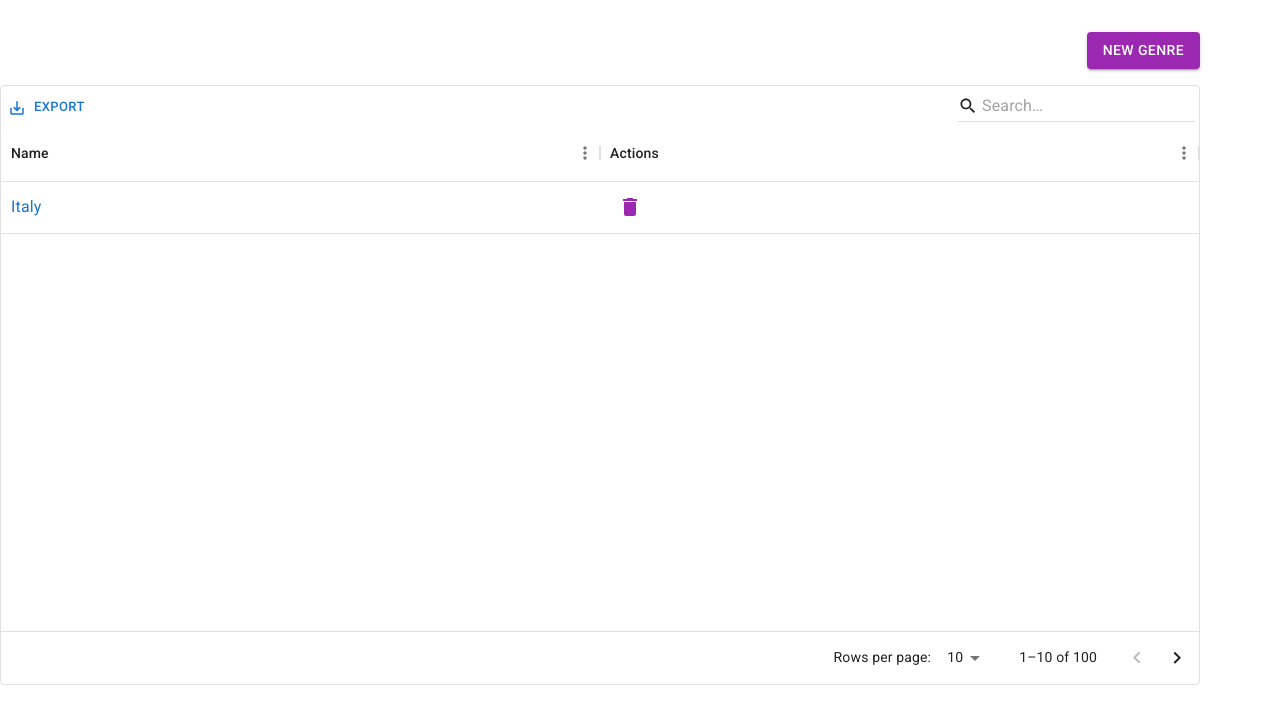
Test: GenreList › should handle OnPageChange
expect the text "Italy" is shown: met, box [11,195,42,219]
Click the button with test id "KeyboardArrowRightIcon" at (1177,658), box [1157,638,1197,678]
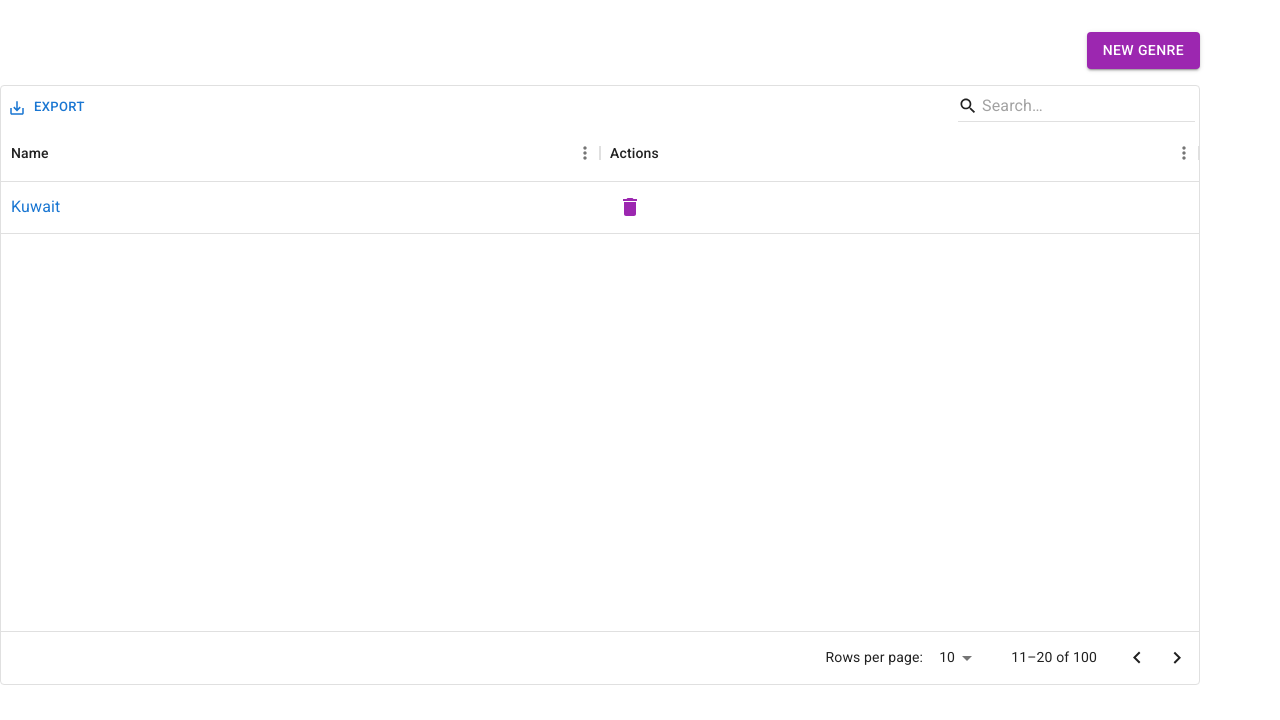
expect the text "Kuwait" is shown: met, box [11,195,60,219]
